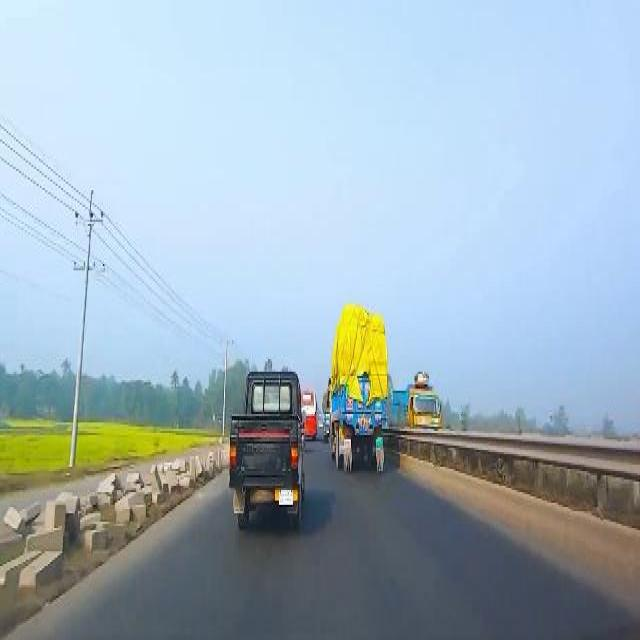bus: (301, 384, 317, 438)
pickup: (229, 362, 303, 523)
truck: (330, 302, 384, 477), (391, 375, 441, 426), (321, 388, 329, 442)
